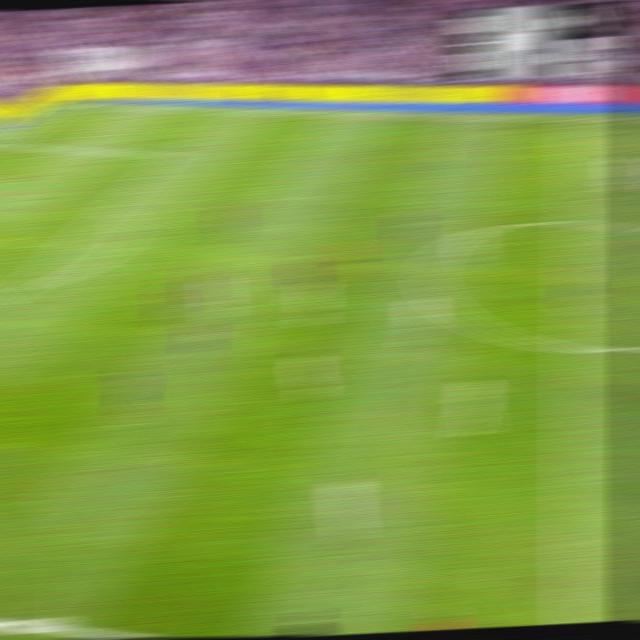bigarea_top_inner: (157, 147, 181, 160)
bigarea_top_outter: (0, 135, 19, 148)
bottom_arc_area_intersection: (8, 279, 34, 296)
halfcircle_bottom: (555, 333, 584, 360)
halfcircle_top: (557, 209, 586, 233)
midline_top_intersection: (561, 112, 586, 126)
top_arc_area_intersection: (100, 198, 125, 213)
